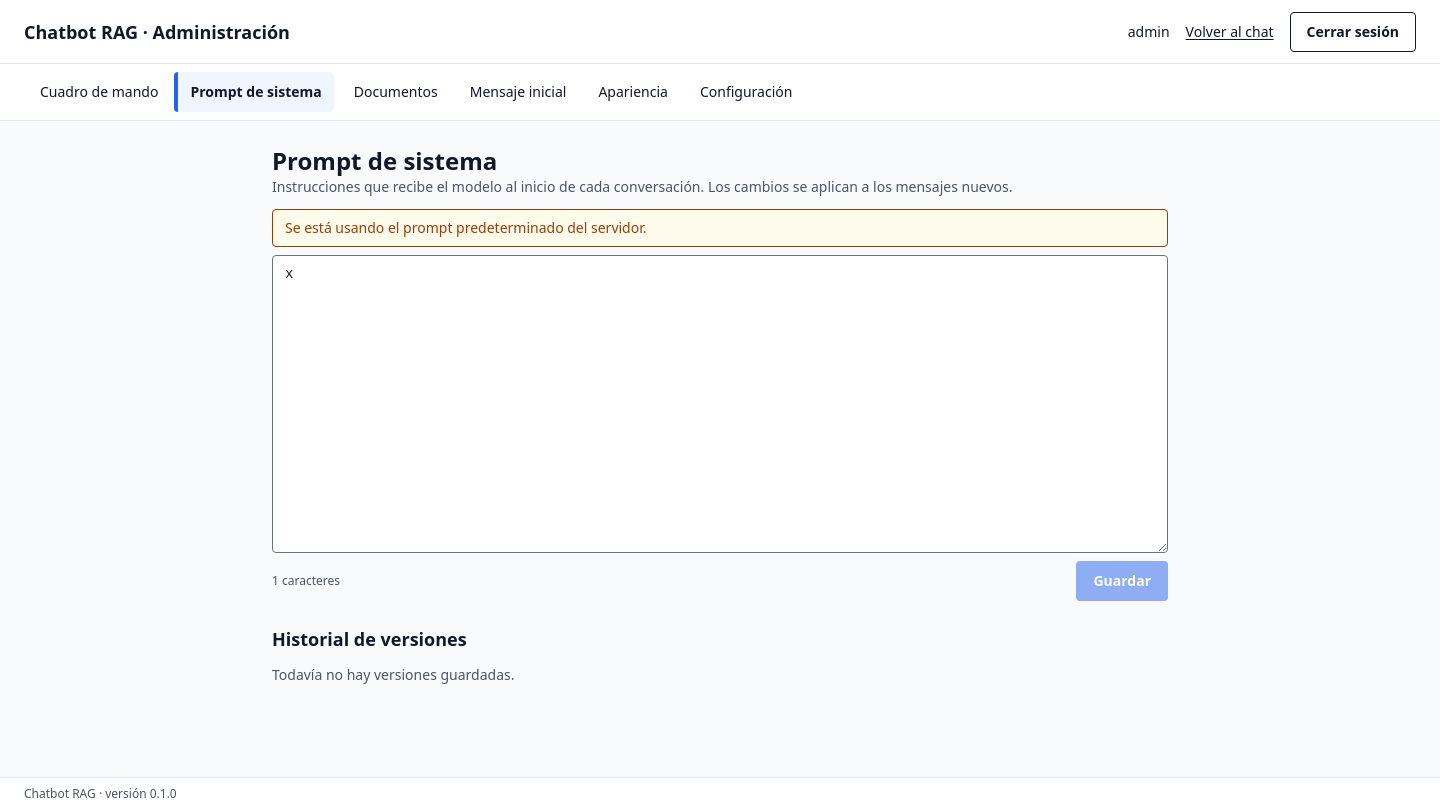
Test case: DocumentsPage › se accede desde la navegación de administración
The image size is (1440, 810).
Click the link "Documentos". click: (396, 92)
box: [354, 82, 438, 101]
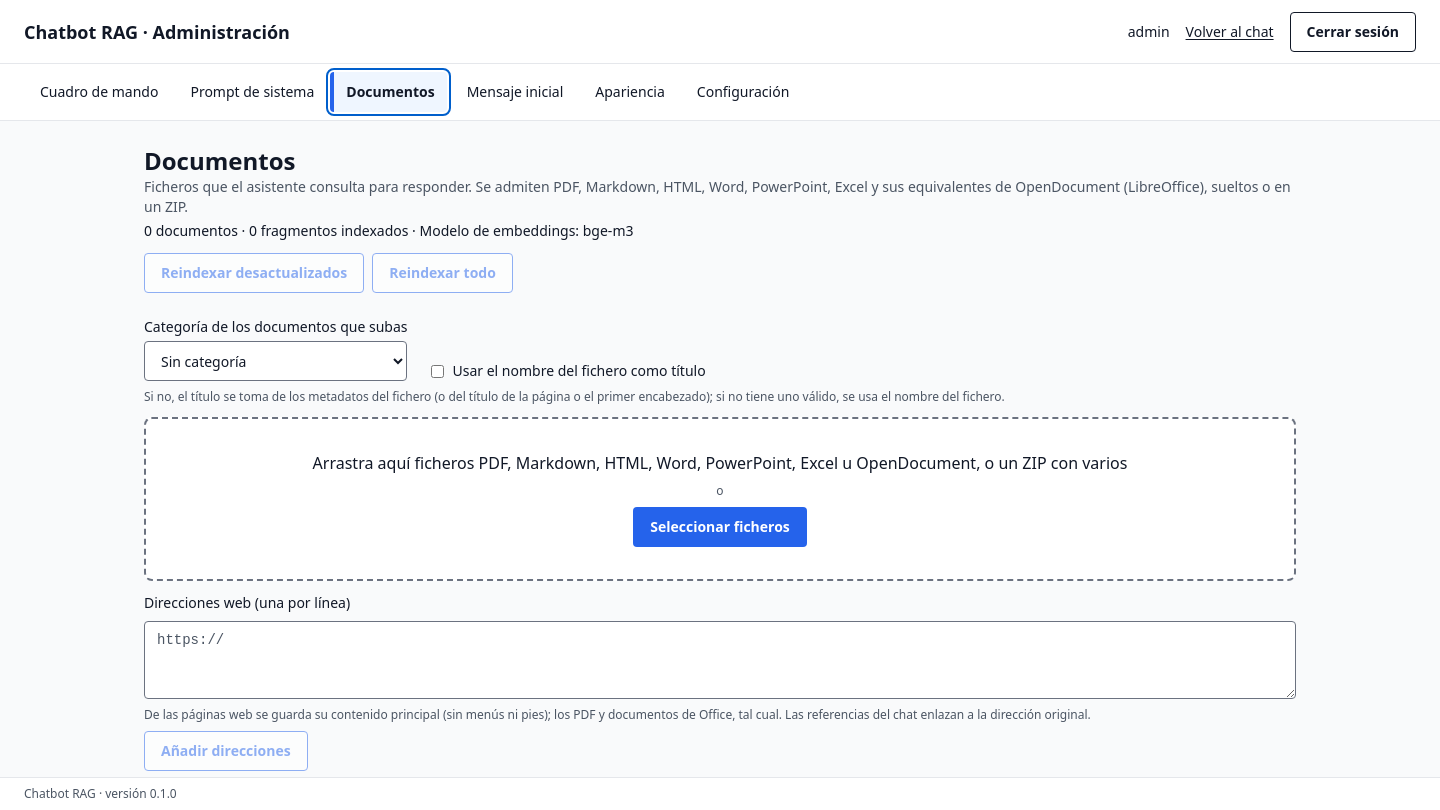
Expected: the heading "Documentos" is shown, [144, 144, 296, 177]
